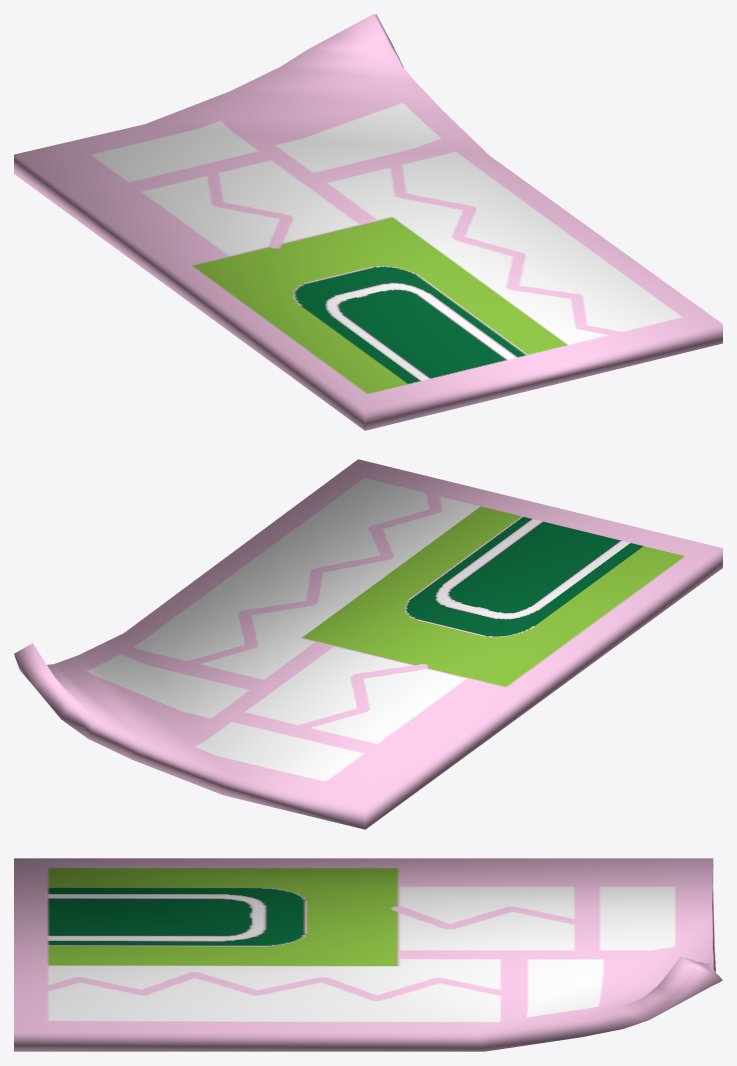
The model's file is BobbleGum.fbx.
3 views of the same model, one above another, from view 1: azimuth 30°, elevation 25°; view 2: azimuth 150°, elevation 25°; view 3: azimuth 270°, elevation 25° (orthographic). The views are drawn at different scales.
Visible parts, largest first — view 1: Plane; view 2: Plane; view 3: Plane.
Boxes of the visible parts, bbox=[...] form: Plane: bbox=[14, 14, 722, 430]; Plane: bbox=[14, 459, 722, 829]; Plane: bbox=[14, 858, 722, 1051].
Bounding box in the file's own units: 202 × 46.89 × 344.
